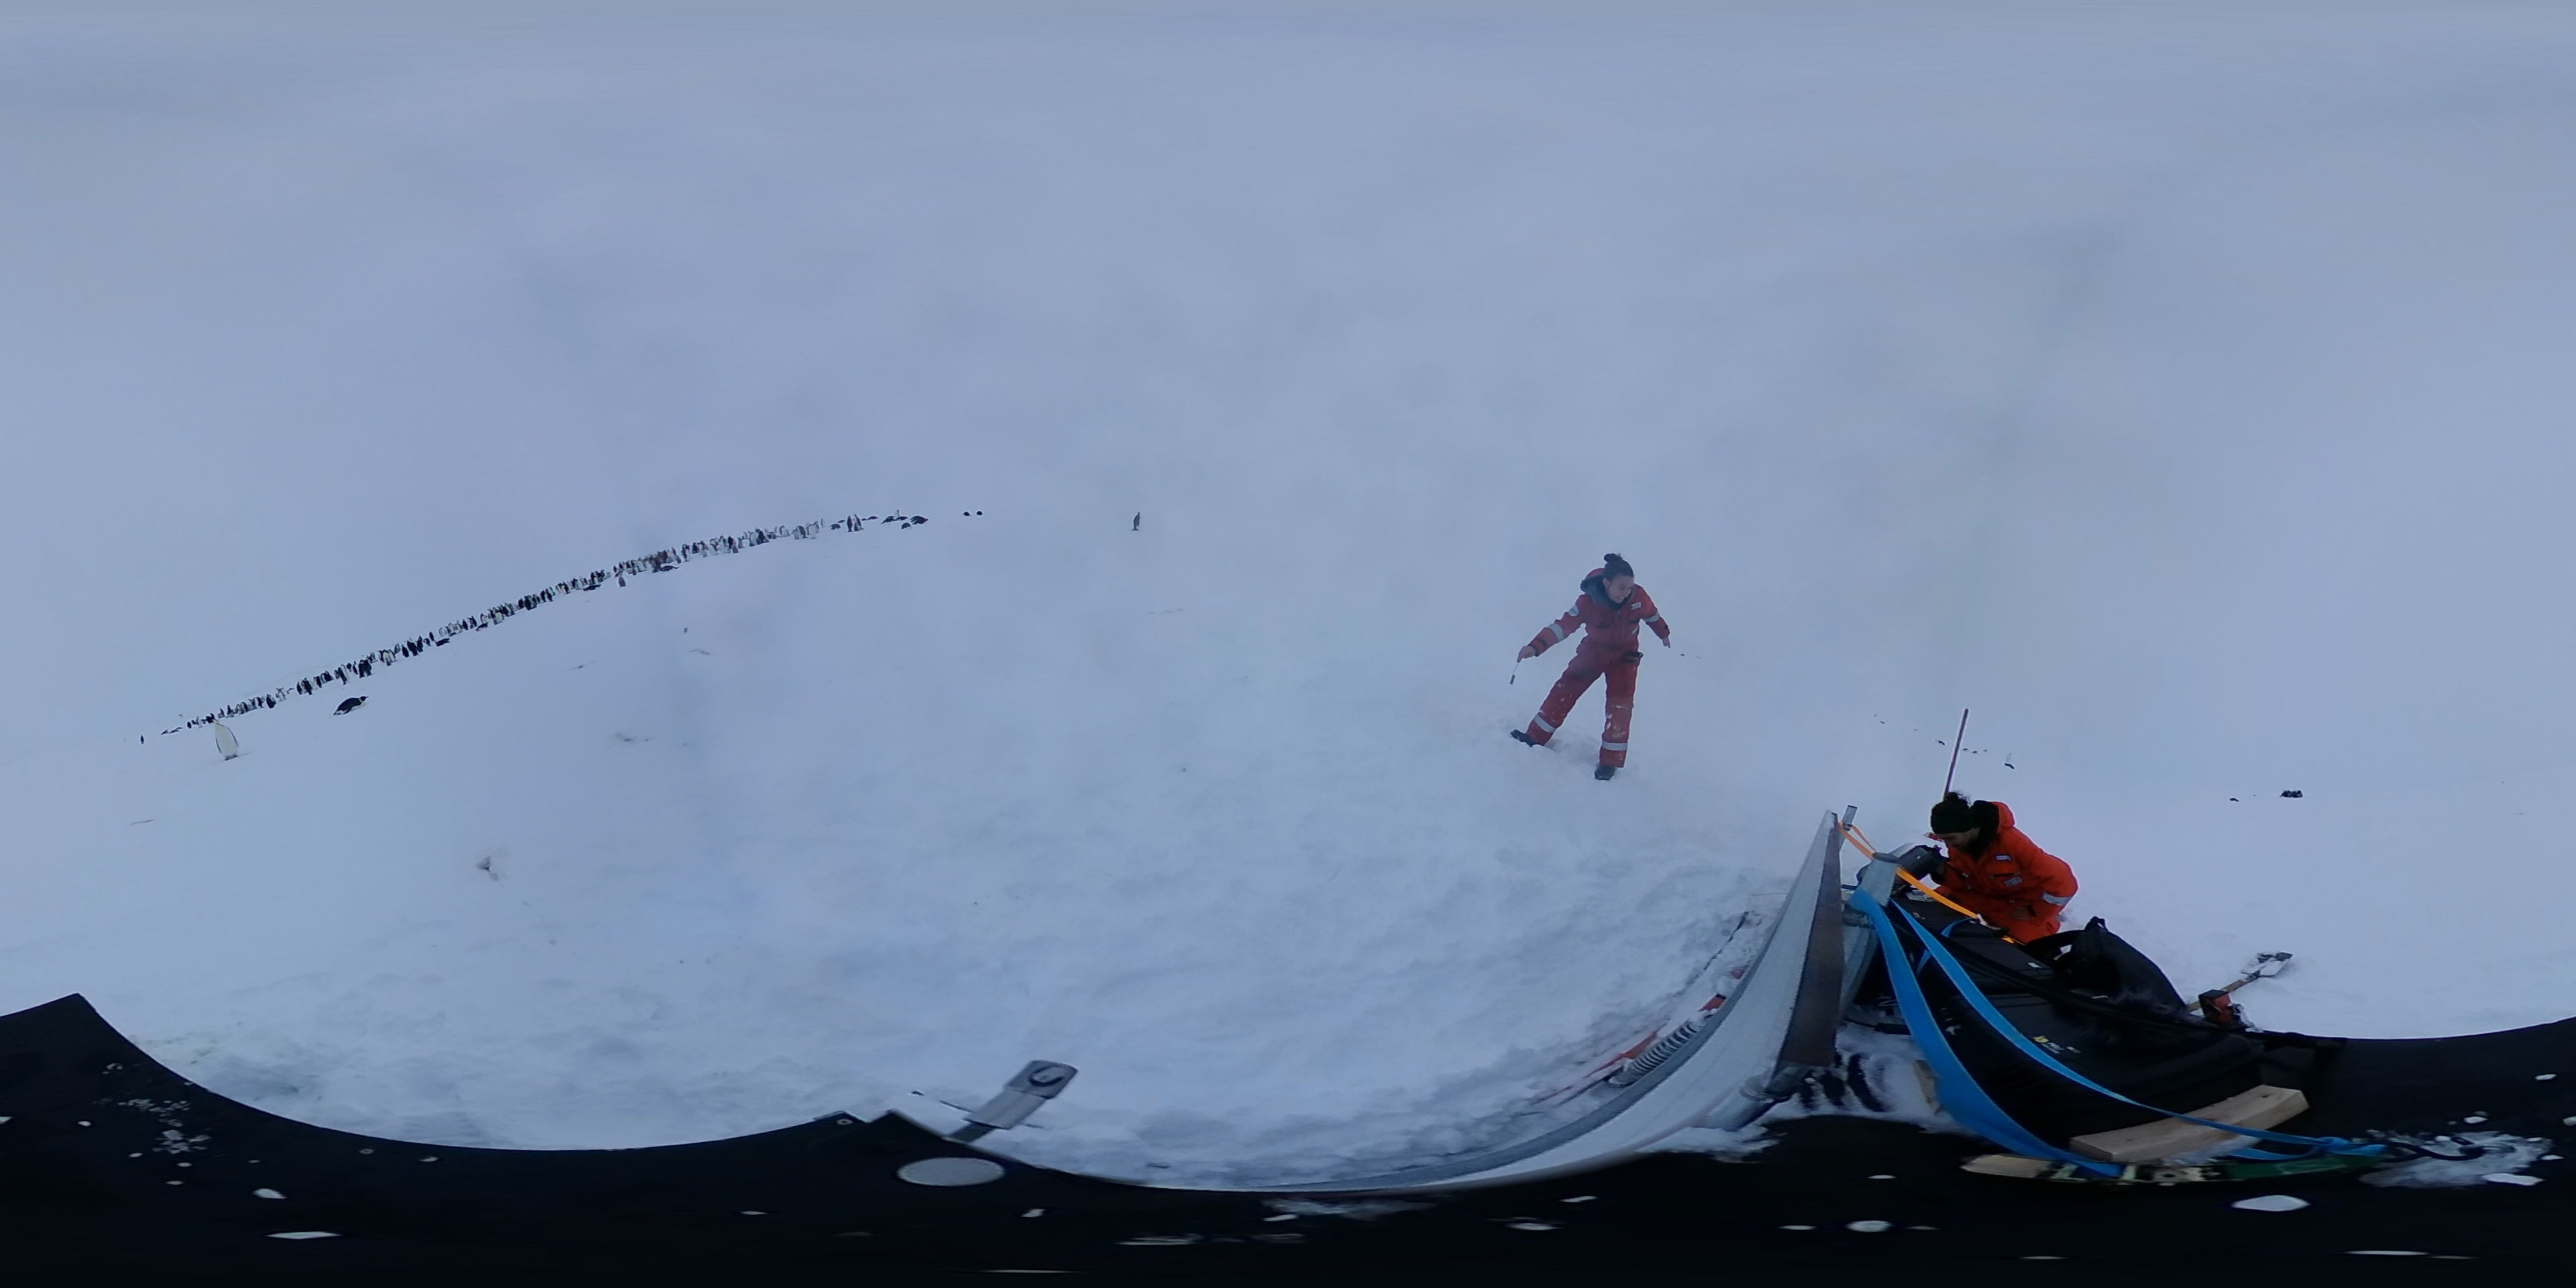adult_standing_penguin: (205, 721, 245, 766), (1130, 509, 1142, 534)
adult_toboggan_penguin: (333, 692, 373, 718)
researcher: (1506, 547, 1682, 787), (1925, 792, 2081, 946)
